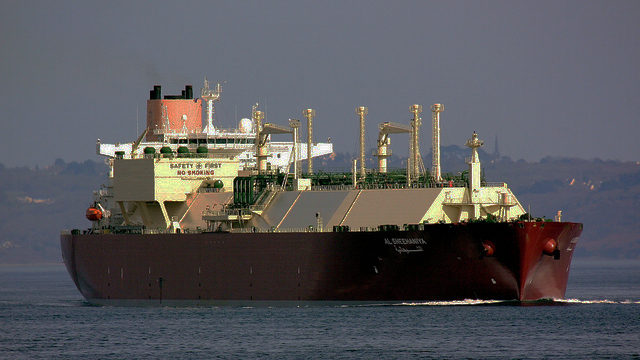LNG_ship: (59, 79, 584, 304)
